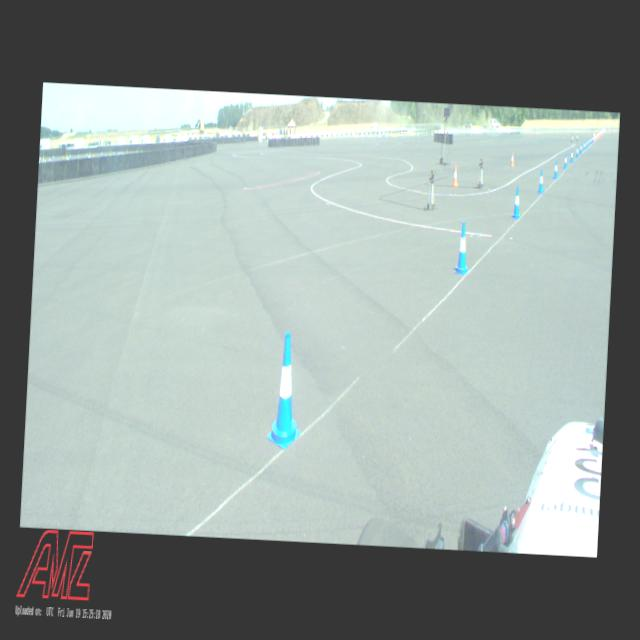blue_cone: (266, 332, 306, 451), (454, 222, 471, 275), (512, 186, 522, 219), (538, 169, 544, 193), (553, 160, 558, 178), (564, 154, 568, 168), (570, 150, 574, 162), (576, 146, 578, 157), (580, 144, 582, 154), (584, 142, 586, 150)
orange_cone: (452, 166, 459, 187), (510, 152, 514, 166)
